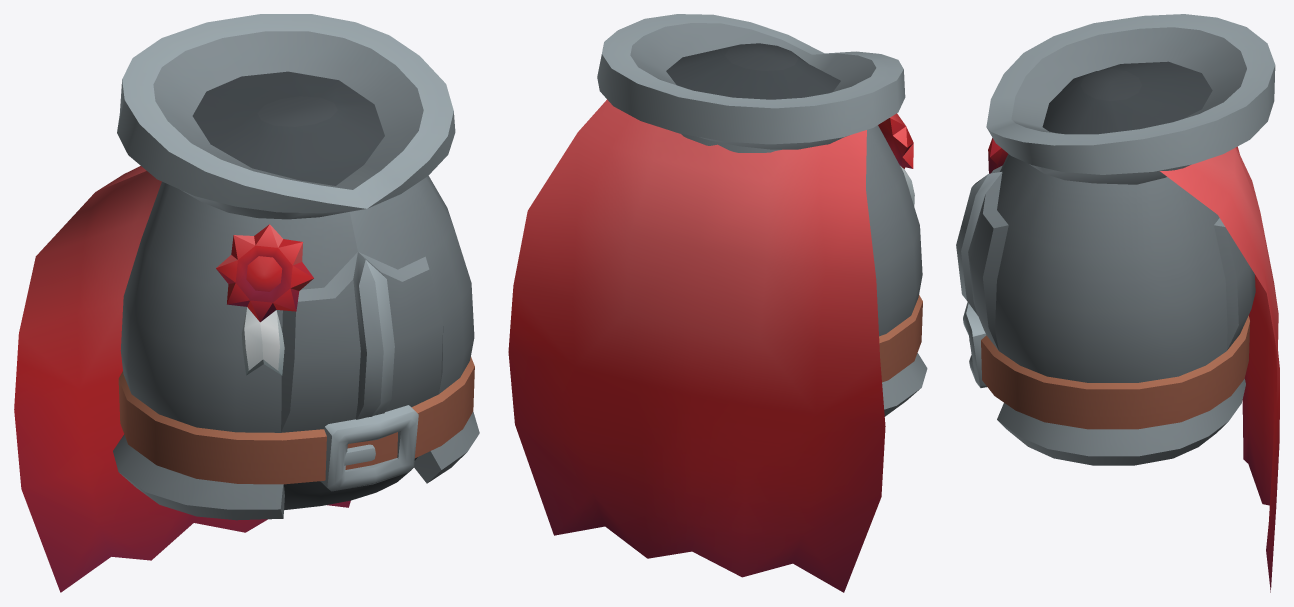
File: KnightBody.glb
3 renders of one model, left to right at view 1: azimuth 30°, elevation 25°; view 2: azimuth 150°, elevation 25°; view 3: azimuth 270°, elevation 25°, orthographic. The views are drawn at different scales.
Visible parts, largest first — view 1: Knight_Body, Knight_Cape; view 2: Knight_Cape, Knight_Body; view 3: Knight_Body, Knight_Cape.
Boxes of the visible parts, bbox=[...] form: Knight_Body: bbox=[113, 14, 479, 520]; Knight_Cape: bbox=[14, 166, 350, 592]; Knight_Cape: bbox=[508, 99, 885, 592]; Knight_Body: bbox=[597, 14, 927, 416]; Knight_Body: bbox=[956, 14, 1275, 465]; Knight_Cape: bbox=[1160, 146, 1279, 592].
Size of the model in its own units: 0.3385 by 0.4244 by 0.2668.
1 material, 1 textured.
